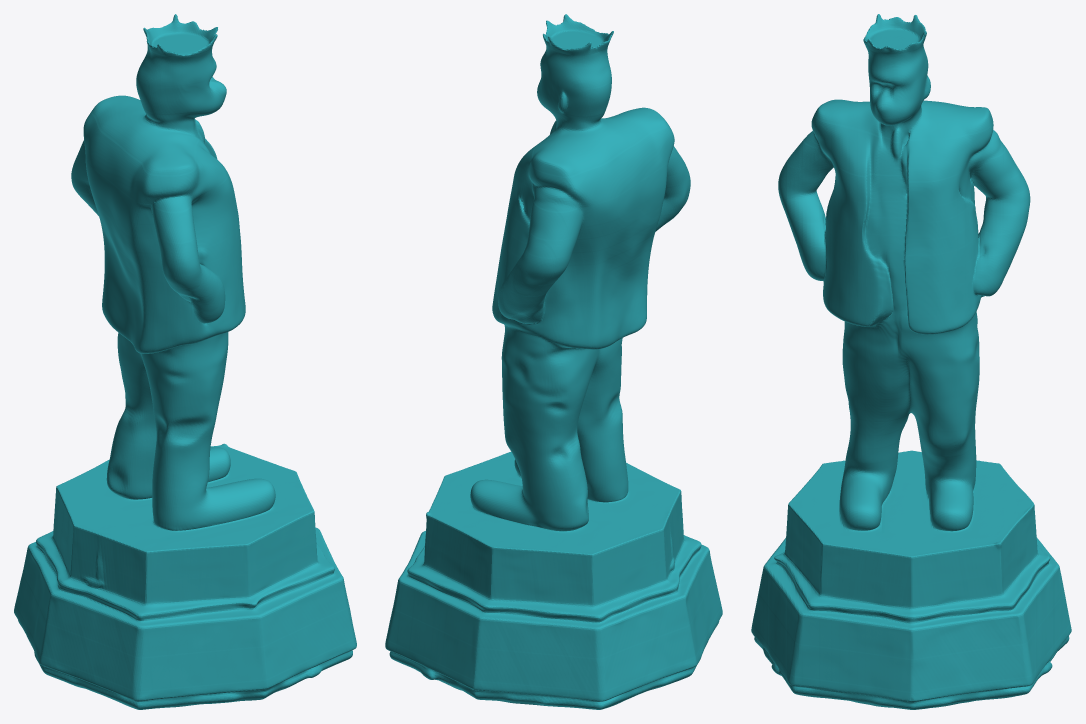
The picture shows the model from 3 angles, left to right: view 1: azimuth 30°, elevation 25°; view 2: azimuth 150°, elevation 25°; view 3: azimuth 270°, elevation 25°; orthographic projection.
Visible parts, largest first — view 1: world; view 2: world; view 3: world.
Part boxes in pixels (x1,y1,x2,y2): world: (14, 14, 356, 709); world: (385, 14, 722, 709); world: (751, 14, 1071, 709).
Size of the model in its own units: 0.9631 by 1.98 by 0.9388.
